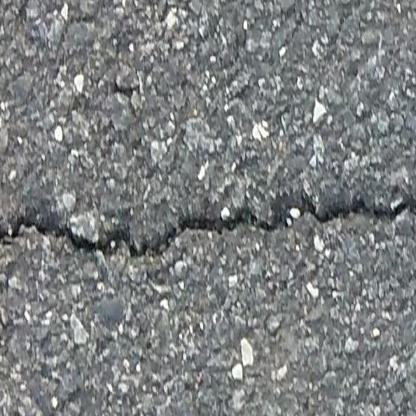Cracks: (0, 211, 283, 268), (284, 196, 416, 233)
